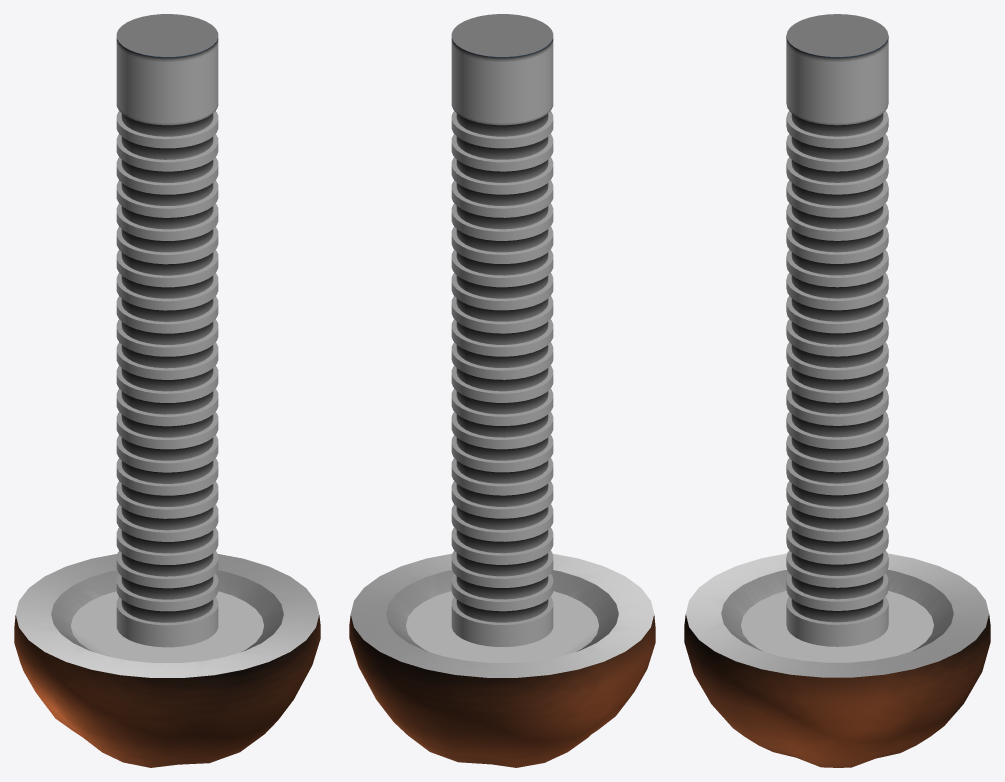
Rendered from destroy2.gltf.
The picture shows the model from 3 angles, left to right: view 1: azimuth 30°, elevation 25°; view 2: azimuth 150°, elevation 25°; view 3: azimuth 270°, elevation 25°; orthographic projection.
Parts seen in each view (by area): view 1: destroy2; view 2: destroy2; view 3: destroy2.
Part boxes in pixels (x1,y1,x2,y2): destroy2: (14, 14, 320, 767); destroy2: (349, 14, 655, 767); destroy2: (684, 14, 990, 767).
Bounding box in the file's own units: 12.07 × 31 × 12.
